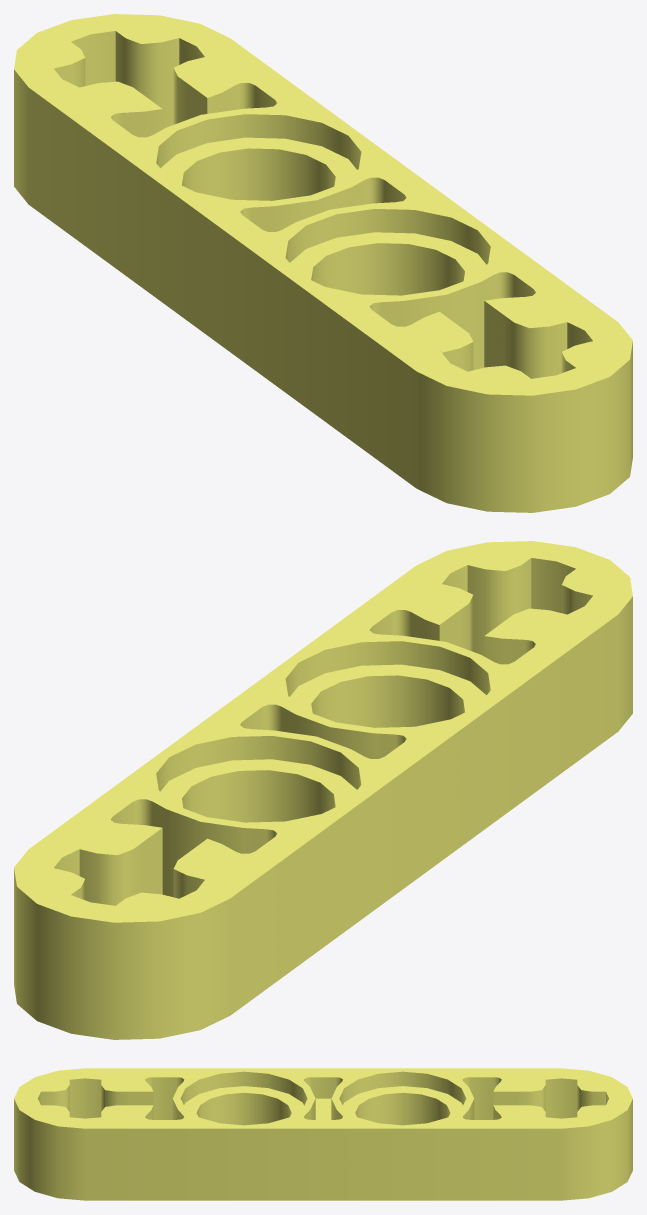
3 renders of one model, top to bottom at view 1: azimuth 30°, elevation 25°; view 2: azimuth 150°, elevation 25°; view 3: azimuth 270°, elevation 25°, orthographic. The views are drawn at different scales.
Parts seen in each view (by area): view 1: 32449.dat; view 2: 32449.dat; view 3: 32449.dat.
Part boxes in pixels (x1,y1,x2,y2): 32449.dat: [14, 14, 632, 512]; 32449.dat: [14, 541, 632, 1039]; 32449.dat: [14, 1068, 632, 1200].
Bounding box in the file's own units: 0.0072 × 0.004 × 0.0312.
